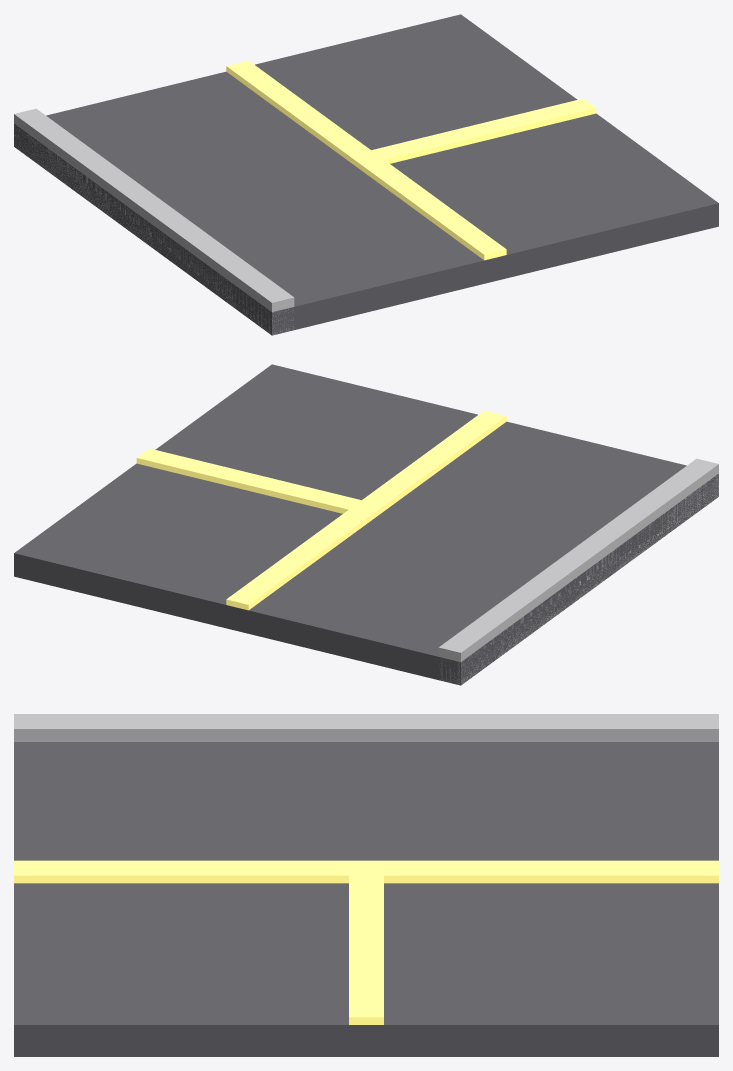
Rendered from road_tee_1.glb.
3 renders of one model, top to bottom at view 1: azimuth 30°, elevation 25°; view 2: azimuth 150°, elevation 25°; view 3: azimuth 270°, elevation 25°, orthographic. The views are drawn at different scales.
Visible parts, largest first — view 1: road_tee_1; view 2: road_tee_1; view 3: road_tee_1.
Part boxes in pixels (bbox=[...]): road_tee_1: bbox=[14, 14, 718, 335]; road_tee_1: bbox=[14, 364, 718, 685]; road_tee_1: bbox=[14, 714, 718, 1056].
Bounding box in the file's own units: 1 × 0.07 × 1.
